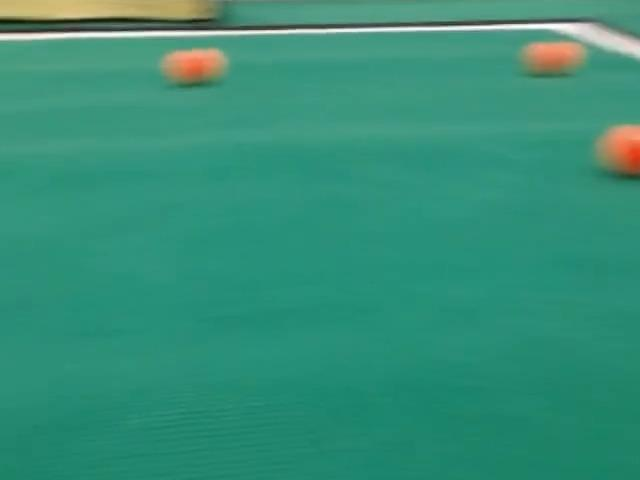Ball: (161, 49, 226, 85), (596, 125, 639, 176), (521, 41, 586, 74)
